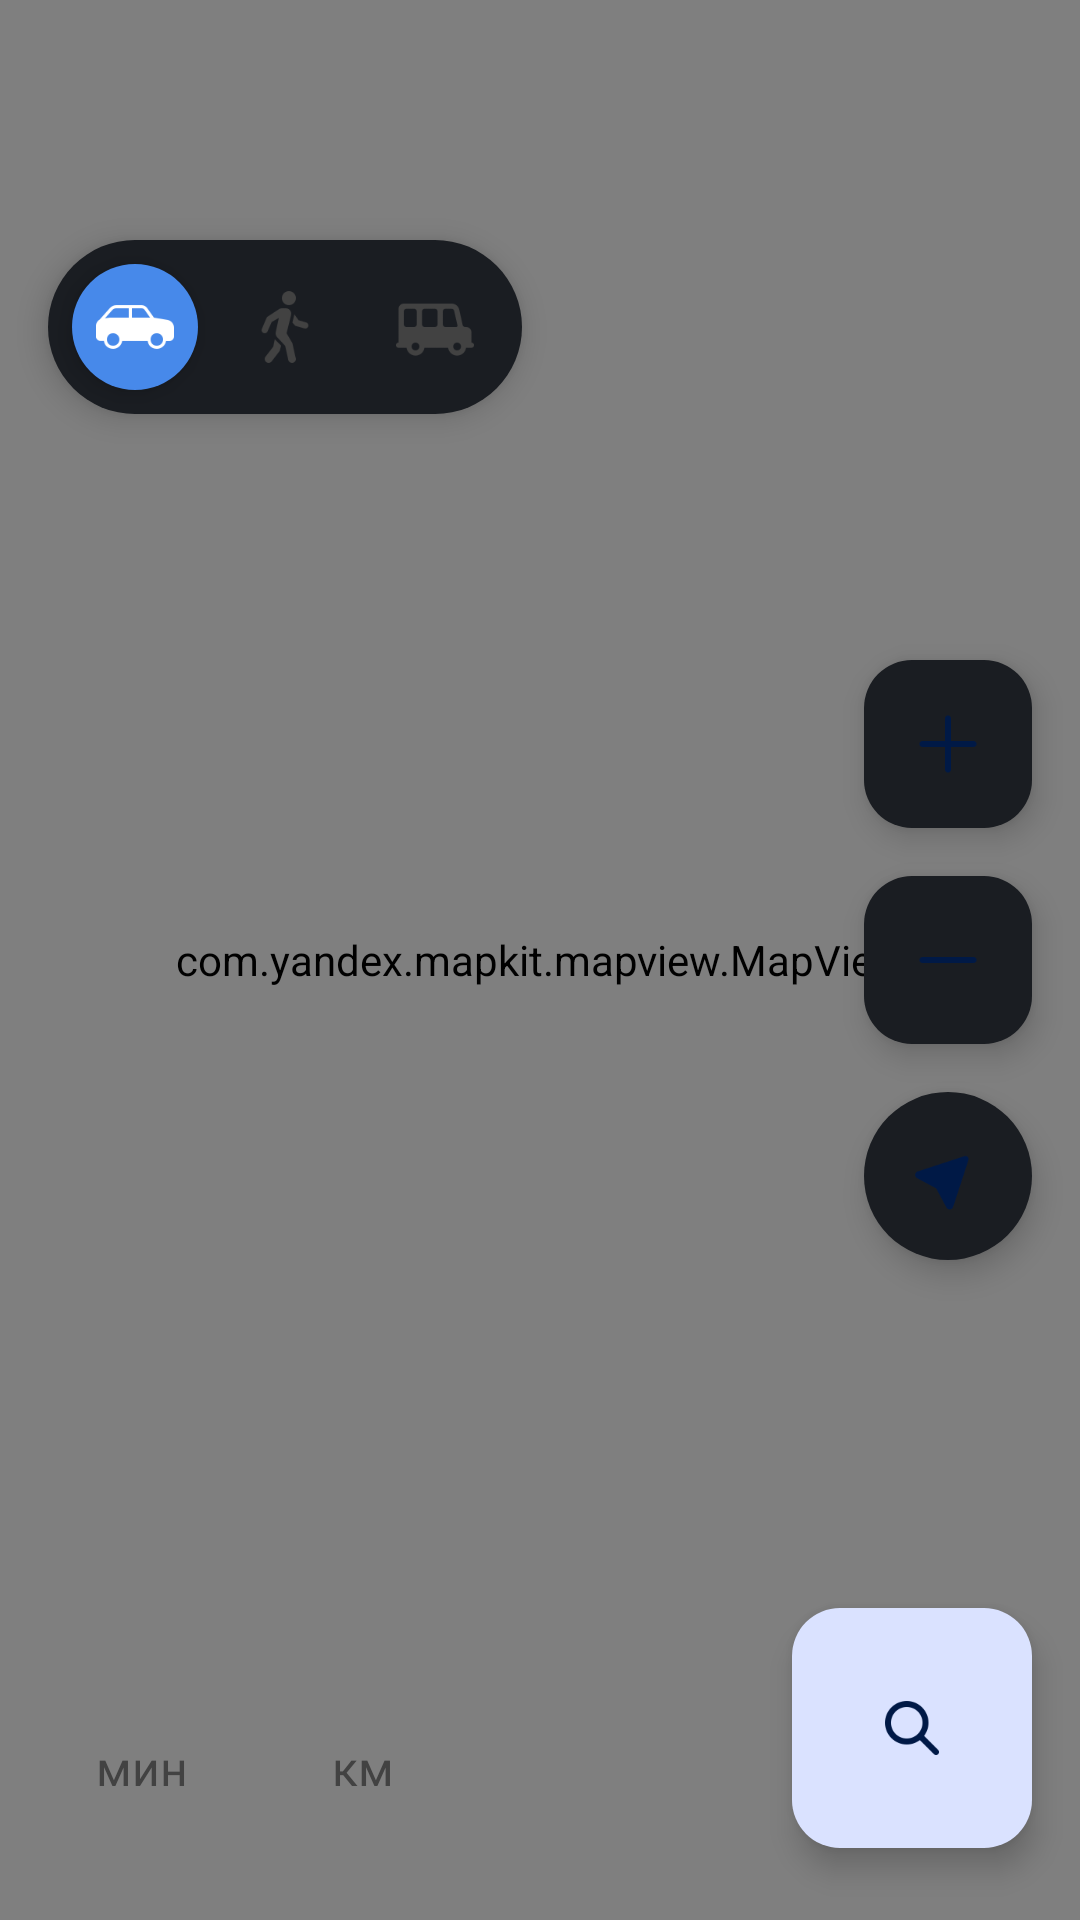

Named icons in this screenshot (1080*1920) and their bounding boxes, (left=x1, top=y1, right=x2, bottom=y2):
auto pick: (left=72, top=264, right=198, bottom=390)
bus unpick: (left=396, top=304, right=474, bottom=355)
minus: (left=864, top=876, right=1032, bottom=1044)
navig: (left=864, top=1092, right=1032, bottom=1260)
ped unpick: (left=262, top=291, right=308, bottom=363)
plus: (left=864, top=660, right=1032, bottom=828)
search: (left=792, top=1608, right=1032, bottom=1848)
